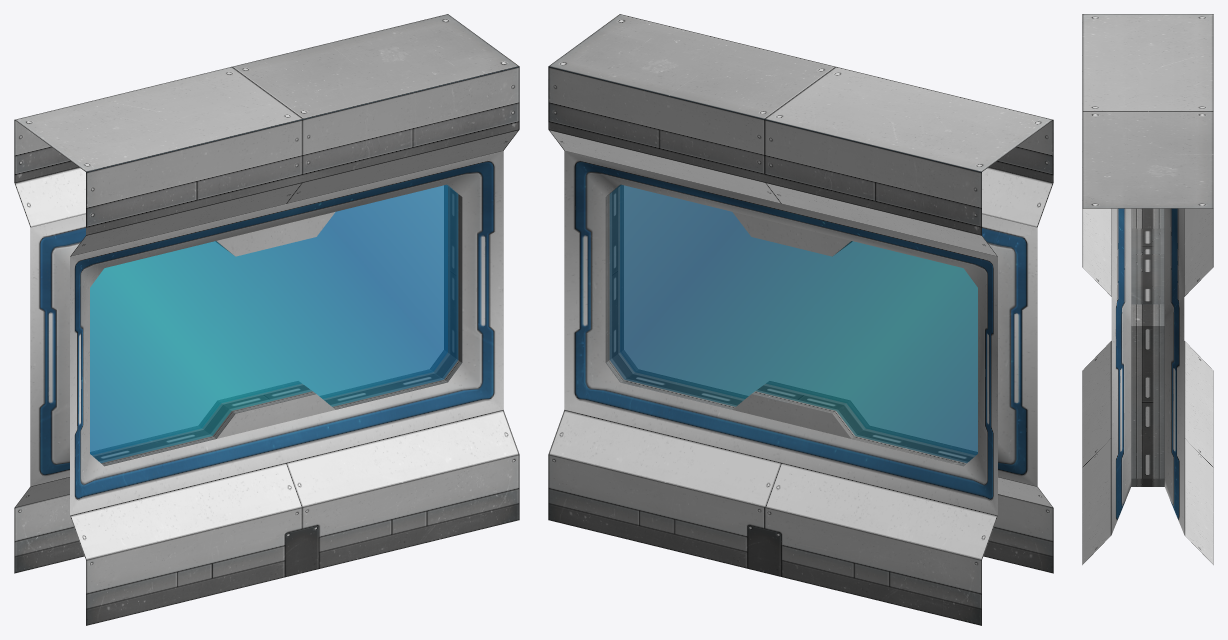
File: Wall_Window_Short_01_A.FBX
3 views of the same model, side by side, from view 1: azimuth 30°, elevation 25°; view 2: azimuth 150°, elevation 25°; view 3: azimuth 270°, elevation 25° (orthographic). The views are drawn at different scales.
Visible parts, largest first — view 1: Wall_Window_Short_01_A; view 2: Wall_Window_Short_01_A; view 3: Wall_Window_Short_01_A.
Part boxes in pixels (x1,y1,x2,y2): Wall_Window_Short_01_A: (14, 14, 519, 625); Wall_Window_Short_01_A: (548, 14, 1053, 625); Wall_Window_Short_01_A: (1082, 14, 1213, 564).
Bounding box in the file's own units: 140 × 140 × 40.03.
